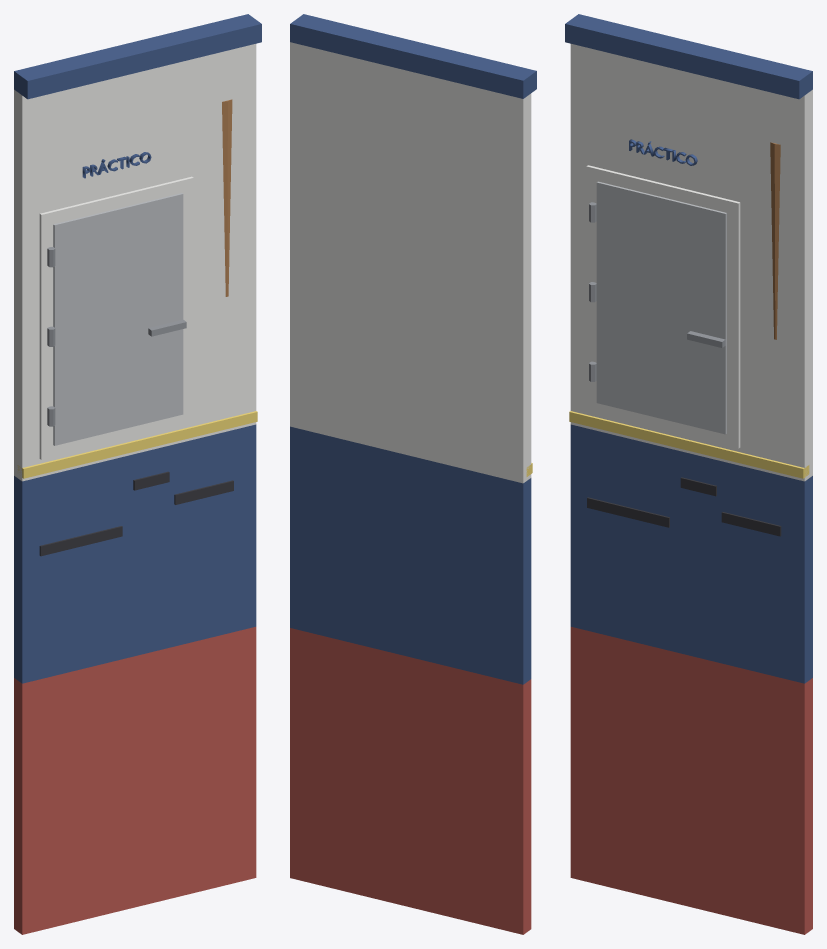
Rendered from CR_Casco_C.fbx.
3 views of the same model, side by side, from view 1: azimuth 30°, elevation 25°; view 2: azimuth 150°, elevation 25°; view 3: azimuth 330°, elevation 25° (orthographic).
Parts seen in each view (by area): view 1: CR_Casco_C; view 2: CR_Casco_C; view 3: CR_Casco_C.
Part boxes in pixels (x1=…): CR_Casco_C: x1=14, y1=14, x2=261, y2=934; CR_Casco_C: x1=290, y1=14, x2=536, y2=934; CR_Casco_C: x1=565, y1=14, x2=812, y2=934.
Bounding box in the file's own units: 2 × 7 × 0.215.
